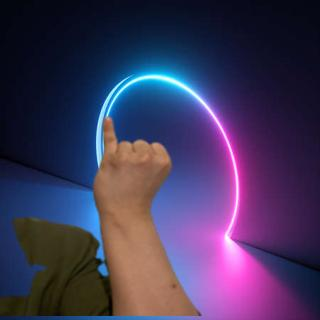FINE: (91, 114, 177, 224)
